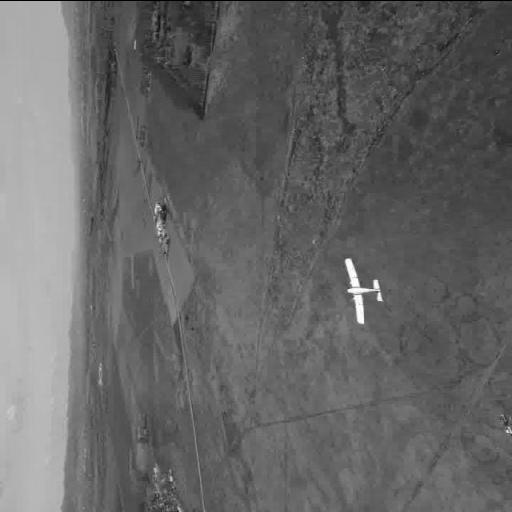uav: (336, 256, 390, 326)
